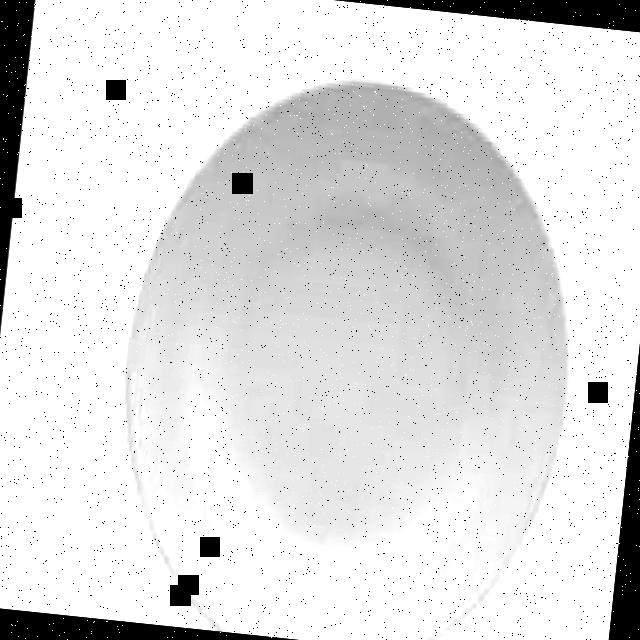plastic_box: (99, 56, 596, 640)
